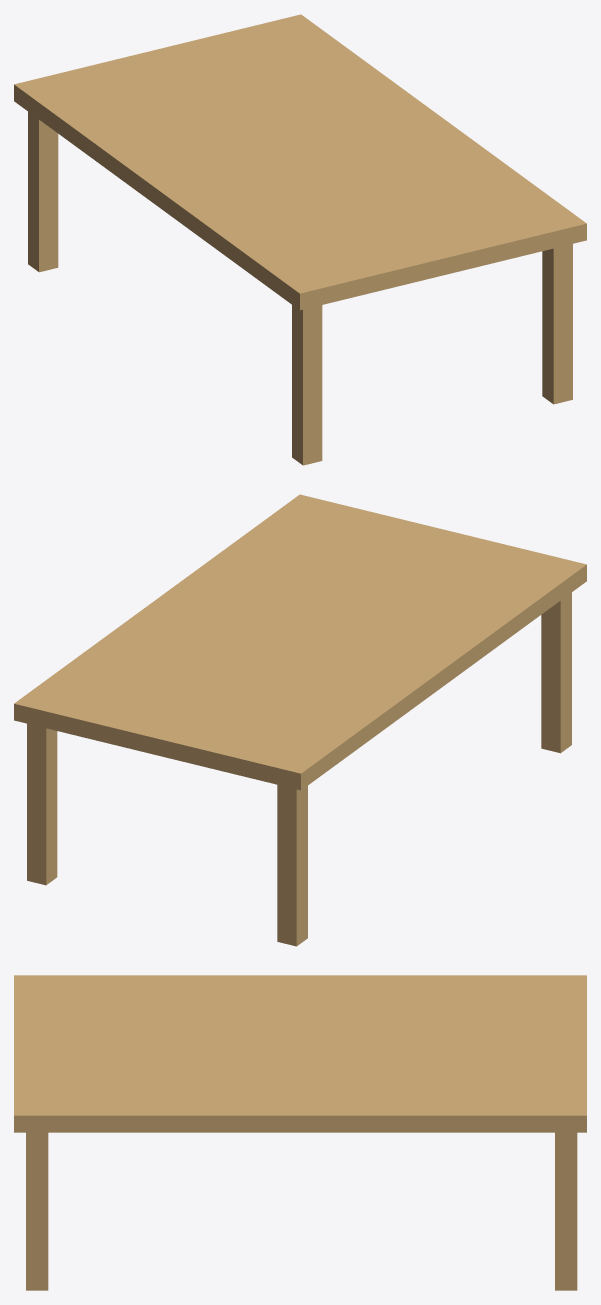
Rendered from TableLong.fbx.
The picture shows the model from 3 angles, top to bottom: view 1: azimuth 30°, elevation 25°; view 2: azimuth 150°, elevation 25°; view 3: azimuth 270°, elevation 25°; orthographic projection.
Parts seen in each view (by area): view 1: Cube; view 2: Cube; view 3: Cube.
Boxes of the visible parts, x1,y1,x2,y2 form: Cube: (14,14,586,465); Cube: (14,494,586,946); Cube: (14,975,586,1290).
Bounding box in the file's own units: 518 × 308 × 894.
